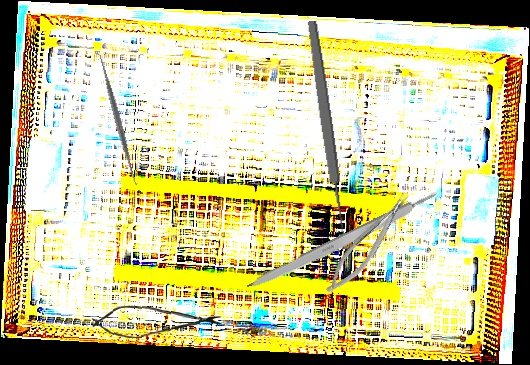Micro Scissor: (89, 302, 224, 340)
Needle Holder: (317, 187, 420, 301)
Scalpel Handle: (243, 188, 443, 296)
Spatula Surgical: (91, 49, 143, 188)
Surgical Spoon: (305, 20, 351, 250)
